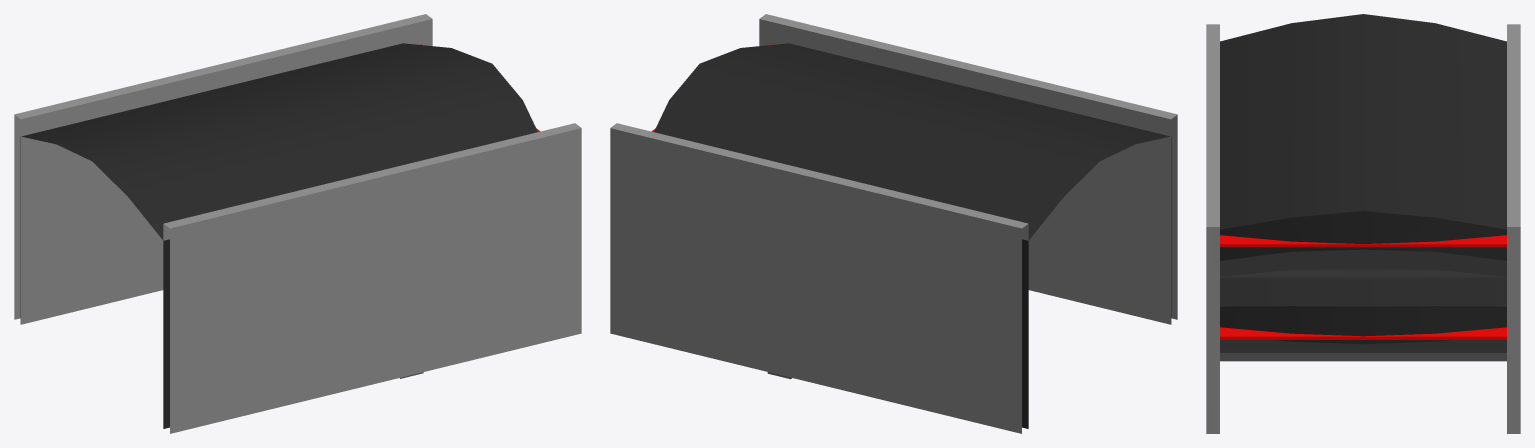
File: Edificio-2.fbx
The picture shows the model from 3 angles, left to right: view 1: azimuth 30°, elevation 25°; view 2: azimuth 150°, elevation 25°; view 3: azimuth 270°, elevation 25°; orthographic projection.
Visible parts, largest first — view 1: PAREDES, BASE; view 2: PAREDES, BASE; view 3: BASE, Ventanas y Puertas, PAREDES, Decorations.
Part boxes in pixels (x1,y1,x2,y2): PAREDES: (14,14,581,433); BASE: (20,43,537,428); PAREDES: (610,14,1177,433); BASE: (654,43,1171,428); BASE: (1220,14,1506,352); Ventanas y Puertas: (1220,249,1506,361); PAREDES: (1206,24,1520,433); Decorations: (1220,235,1506,339).
Bounding box in the file's own units: 1269 × 646 × 832.
